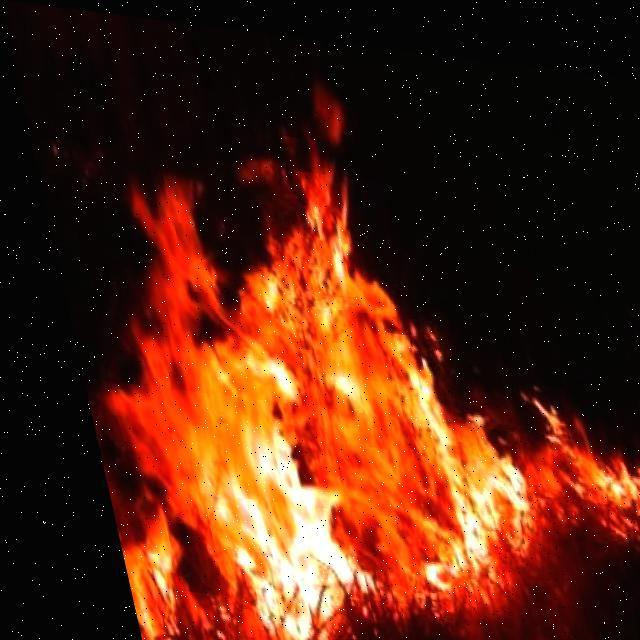Fire: (22, 99, 639, 639)
